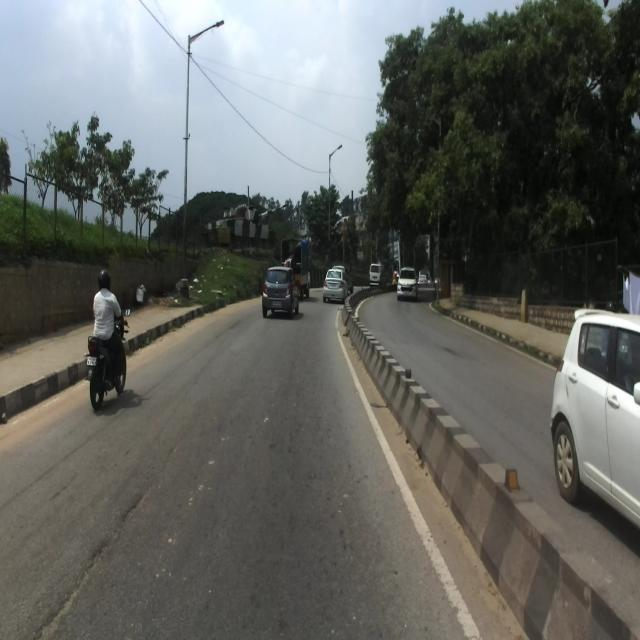car: (550, 307, 640, 527), (261, 265, 300, 320), (321, 267, 349, 301), (395, 265, 418, 299), (368, 262, 385, 288)
motorcycle: (83, 307, 131, 411)
